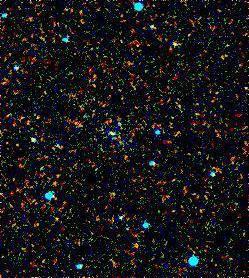star: (97, 120, 127, 150)
